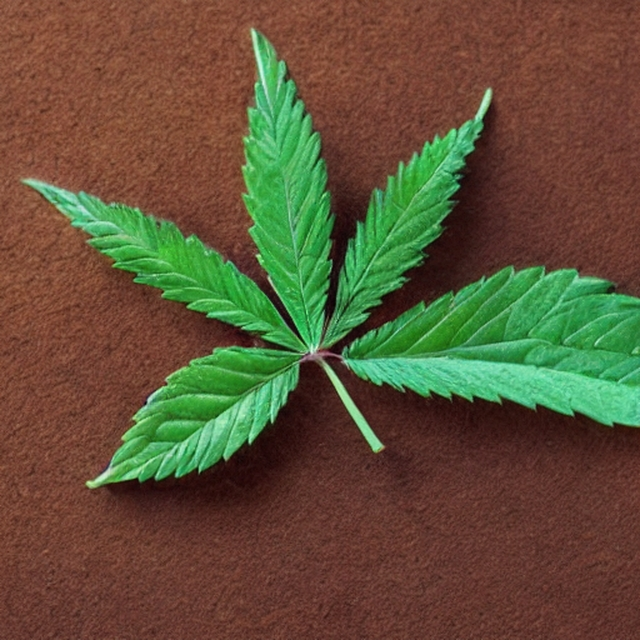Marijuana Leaf: (19, 25, 640, 491)
